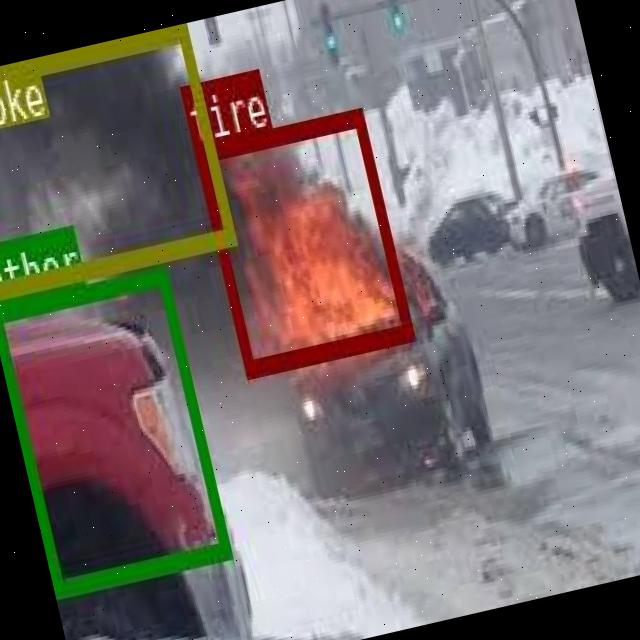fire: (192, 108, 412, 373)
smoke: (0, 23, 233, 299)
